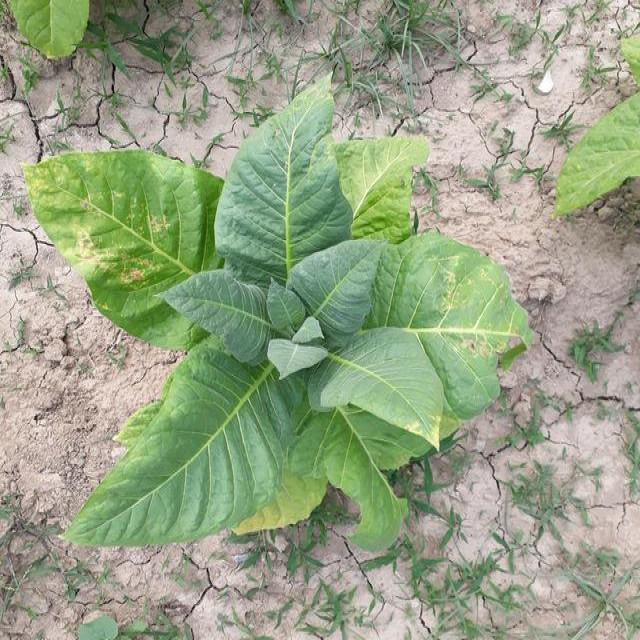crop: (35, 111, 535, 540)
